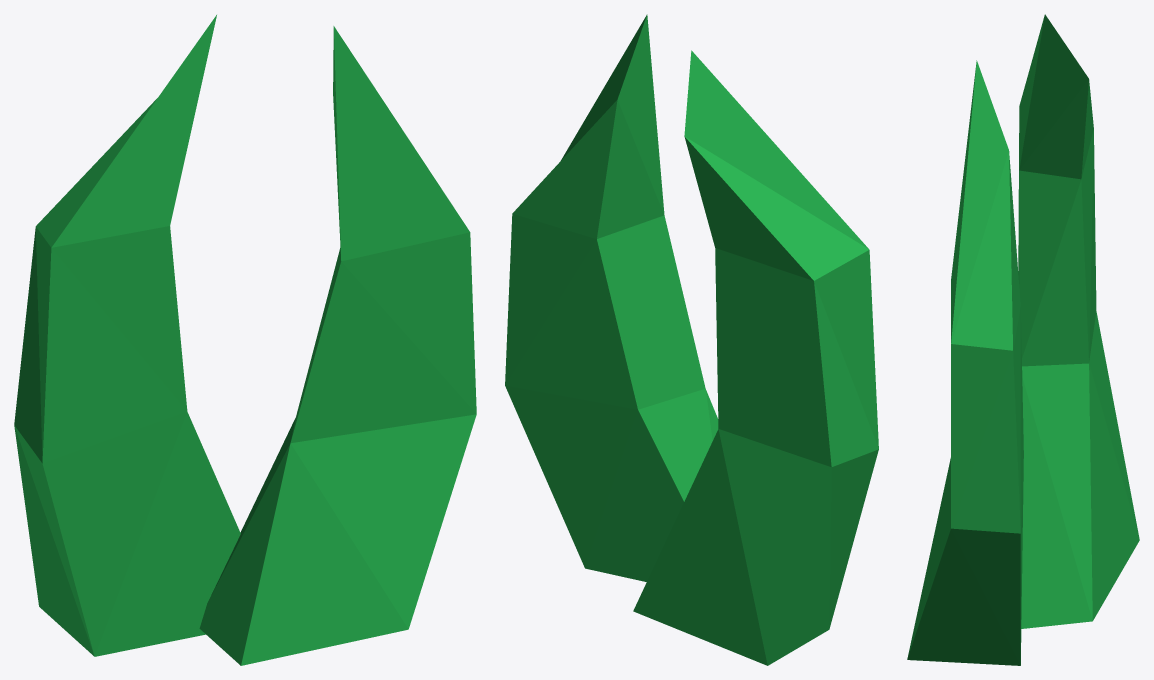
File: grass_2.OBJ
3 renders of one model, left to right at view 1: azimuth 30°, elevation 25°; view 2: azimuth 150°, elevation 25°; view 3: azimuth 270°, elevation 25°, orthographic. The views are drawn at different scales.
Parts seen in each view (by area): view 1: grass_2; view 2: grass_2; view 3: grass_2.
Part boxes in pixels (bbox=[...]): grass_2: bbox=[14, 15, 476, 665]; grass_2: bbox=[505, 14, 878, 665]; grass_2: bbox=[907, 14, 1139, 665].
Size of the model in its own units: 3.73 by 5.35 by 1.89.
Materials: 1 (1 with a texture image).
